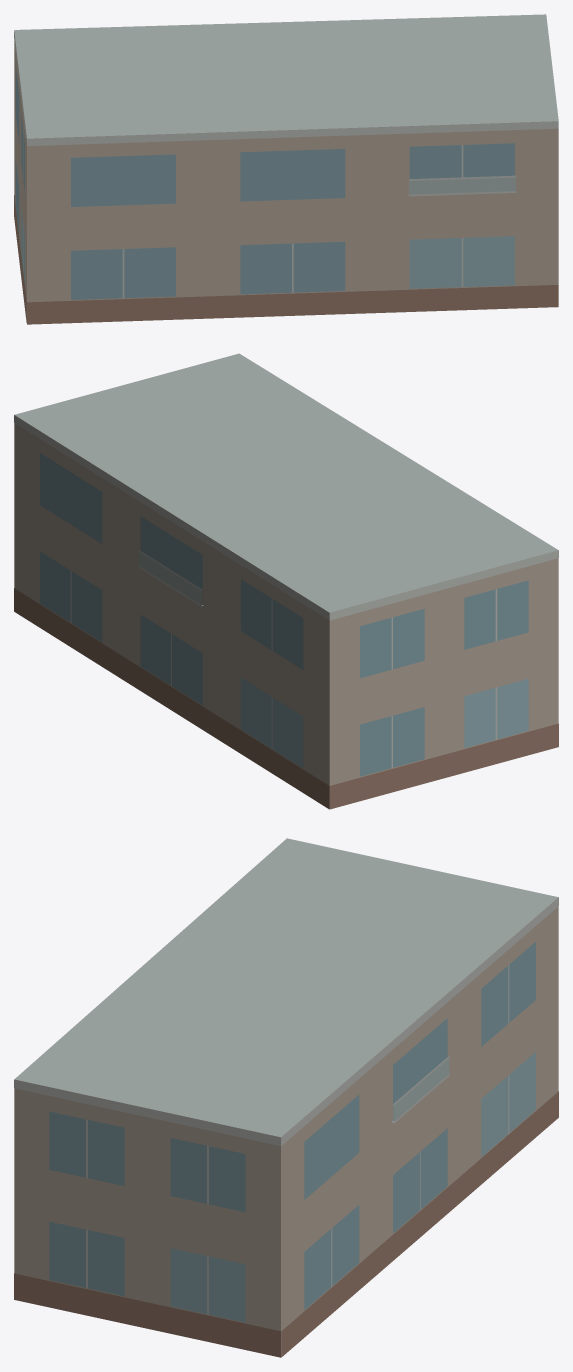
The model's file is survey-upis-32882564.glb.
3 renders of one model, top to bottom at view 1: azimuth 30°, elevation 25°; view 2: azimuth 150°, elevation 25°; view 3: azimuth 270°, elevation 25°, orthographic. The views are drawn at different scales.
Parts seen in each view (by area): view 1: survey-upis-32882564.tmp; view 2: survey-upis-32882564.tmp; view 3: survey-upis-32882564.tmp.
Boxes of the visible parts, bbox=[...] form: survey-upis-32882564.tmp: bbox=[14, 14, 558, 324]; survey-upis-32882564.tmp: bbox=[14, 353, 558, 809]; survey-upis-32882564.tmp: bbox=[14, 838, 558, 1357].
Bounding box in the file's own units: 17.77 × 6.1 × 13.68.
